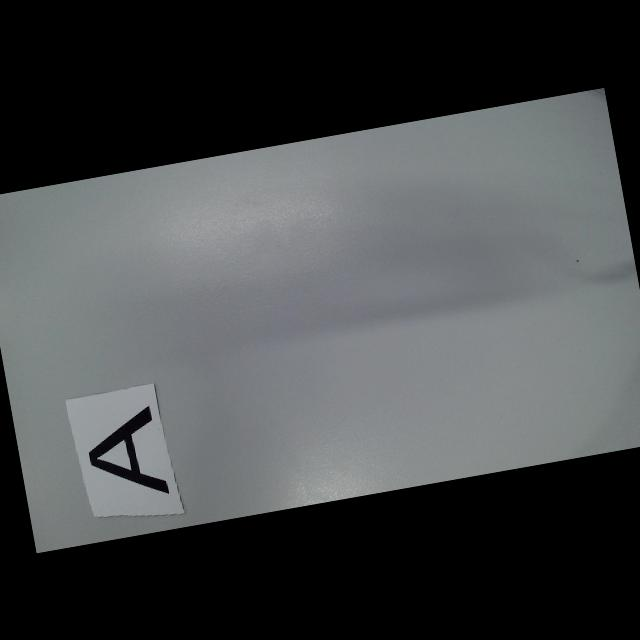FAKE: (82, 404, 170, 504)
